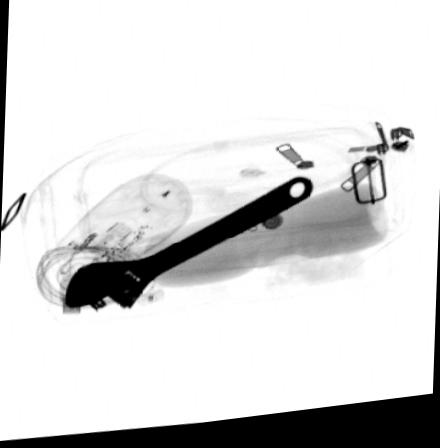Wrench: (58, 180, 315, 313)
